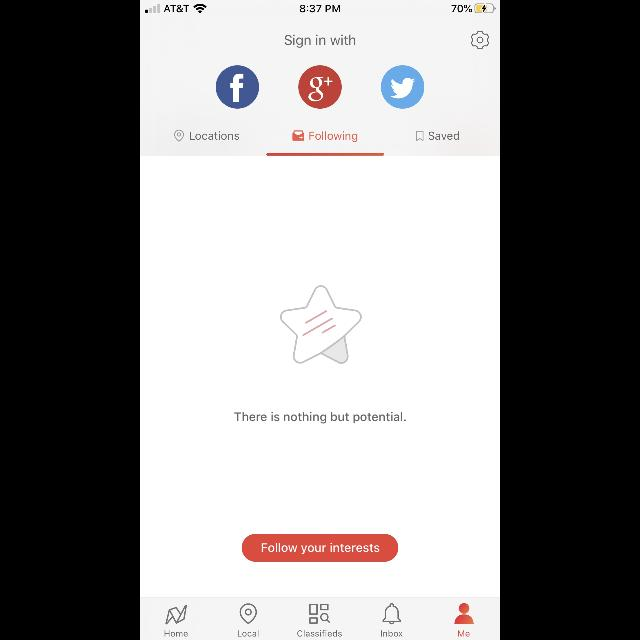icon: (215, 65, 259, 109), (381, 65, 425, 109), (298, 65, 342, 108), (382, 603, 402, 625), (454, 602, 474, 624), (470, 30, 490, 50), (310, 604, 330, 624), (240, 604, 256, 624), (293, 130, 305, 142), (174, 130, 184, 142), (416, 131, 424, 141)
image: (280, 286, 362, 364), (165, 605, 187, 625)
text: (234, 412, 406, 424), (284, 34, 356, 48), (310, 132, 358, 142), (190, 132, 240, 140), (298, 630, 342, 636), (428, 132, 459, 140), (165, 631, 188, 637), (238, 630, 260, 636), (381, 630, 403, 636), (458, 630, 470, 636)
textbutton: (242, 534, 398, 562)
uppertaskbar: (140, 0, 500, 14)
